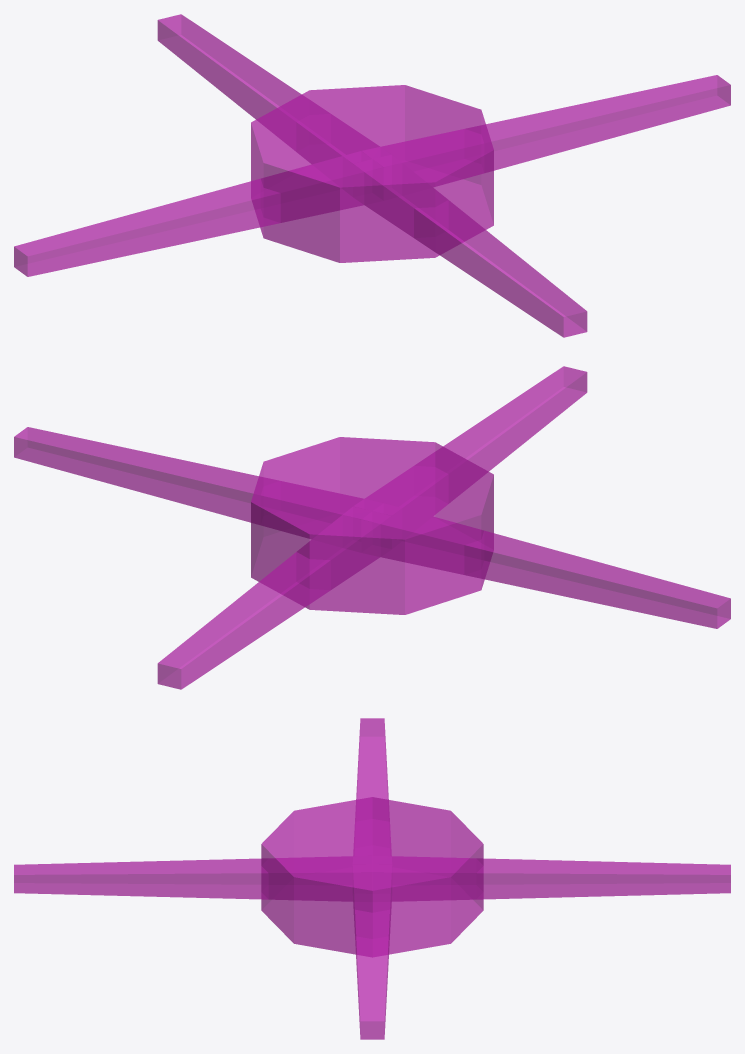
The model's file is SM_Veh_Capstan_01_Wheel_01_Collision.fbx.
3 views of the same model, one above another, from view 1: azimuth 30°, elevation 25°; view 2: azimuth 150°, elevation 25°; view 3: azimuth 270°, elevation 25° (orthographic). The views are drawn at different scales.
Visible parts, largest first — view 1: SM_Veh_Capstan_01_Wheel_01_Collision; view 2: SM_Veh_Capstan_01_Wheel_01_Collision; view 3: SM_Veh_Capstan_01_Wheel_01_Collision.
Part boxes in pixels (x1,y1,x2,y2): SM_Veh_Capstan_01_Wheel_01_Collision: [14, 14, 730, 337]; SM_Veh_Capstan_01_Wheel_01_Collision: [14, 366, 730, 689]; SM_Veh_Capstan_01_Wheel_01_Collision: [14, 718, 730, 1039].
Bounding box in the file's own units: 280 × 28.71 × 280.
